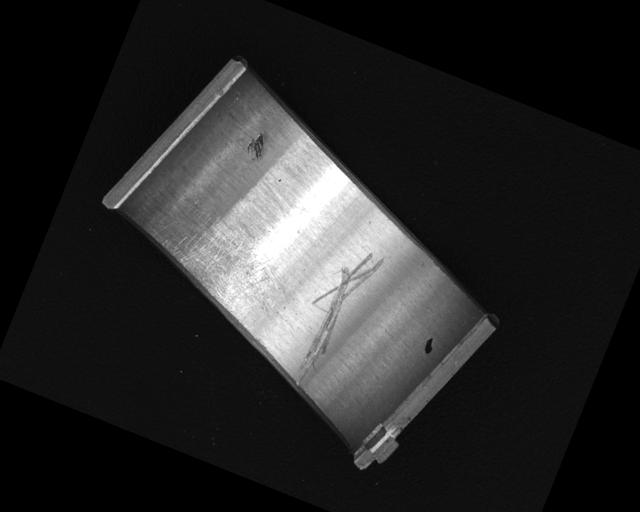blot: (421, 334, 438, 355)
bruise: (242, 128, 271, 162)
nick: (281, 238, 386, 400)
scratch: (144, 194, 298, 328)
